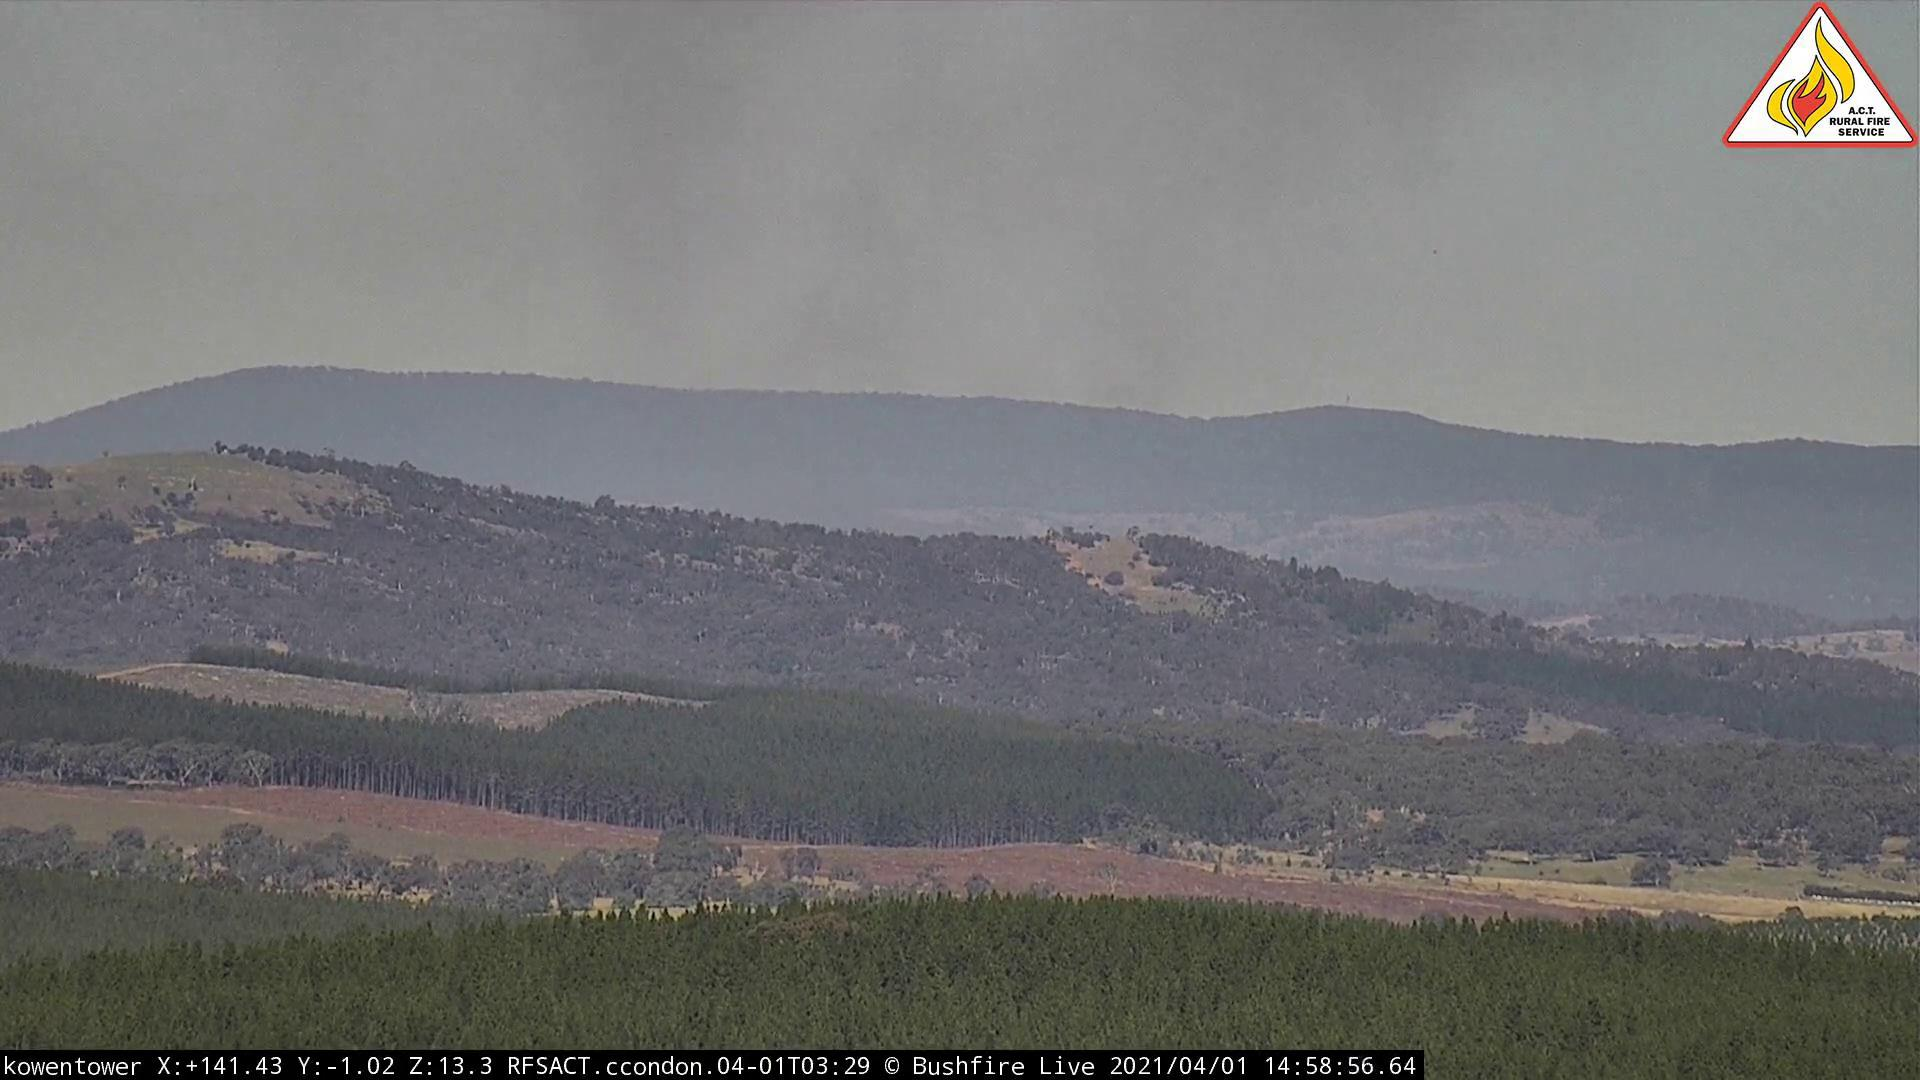Smoke: (489, 3, 1489, 430)
